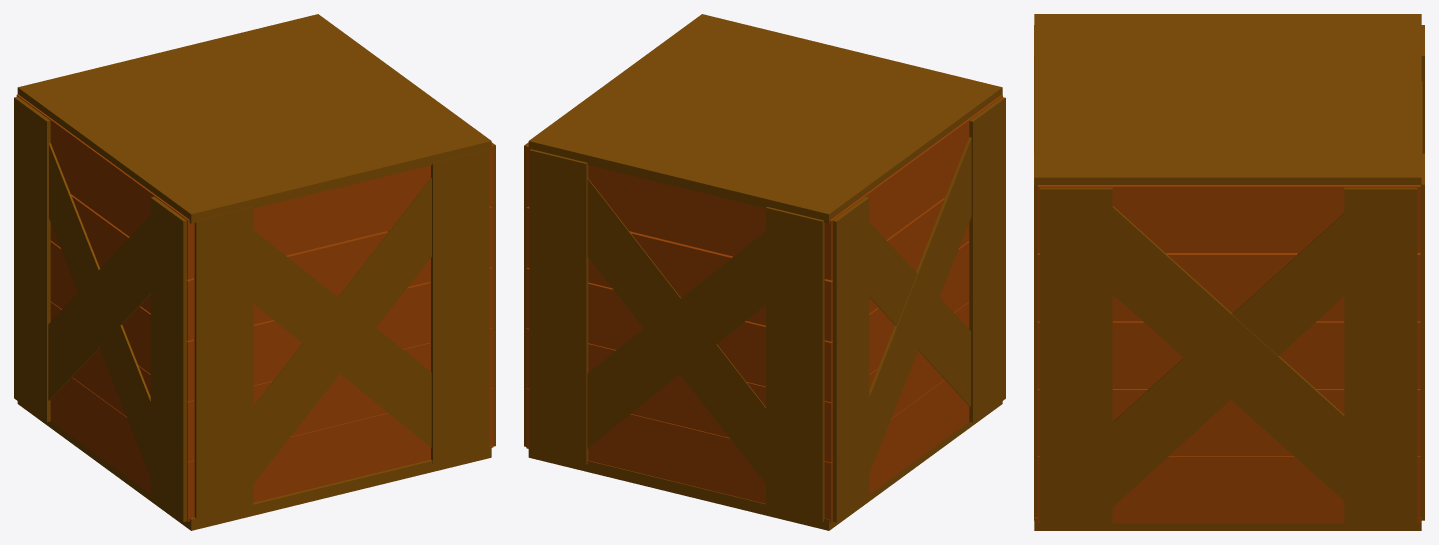
Rendered from woodenbox.fbx.
3 views of the same model, side by side, from view 1: azimuth 30°, elevation 25°; view 2: azimuth 150°, elevation 25°; view 3: azimuth 270°, elevation 25° (orthographic). The views are drawn at different scales.
Visible parts, largest first — view 1: Cube.029, Cube.026, Cube.027, Cube.034, Cube.021, Cube.020, Cube.035, Cube.015, Cube.019, Cube.032, Cube.033, Cube.004 (+9 smaller); view 2: Cube.029, Cube.025, Cube.024, Cube.037, Cube.020, Cube.036, Cube.021, Cube.014, Cube.010, Cube.032, Cube.033, Cube.004 (+9 smaller); view 3: Cube.029, Cube.022, Cube.023, Cube.030, Cube.031, Cube.009, Cube.005, Cube.007, Cube.008, Cube.006, Cube.028, Cube.025 (+1 smaller).
Boxes of the visible parts, x1,y1,x2,y2 form: Cube.029: (17,14,491,223); Cube.026: (194,207,253,521); Cube.027: (430,149,489,463); Cube.034: (253,177,431,483); Cube.021: (150,196,187,522); Cube.020: (14,96,50,422); Cube.035: (253,230,431,447); Cube.015: (191,413,430,517); Cube.019: (192,165,430,278); Cube.032: (48,215,150,400); Cube.033: (49,143,150,476); Cube.004: (16,94,191,279); Cube.029: (528,14,1002,223); Cube.025: (529,149,588,464); Cube.024: (766,207,824,522); Cube.037: (587,231,765,448); Cube.020: (832,197,869,522); Cube.036: (587,178,765,483); Cube.021: (969,97,1005,422); Cube.014: (588,165,827,279); Cube.010: (588,414,827,518); Cube.032: (869,137,971,473); Cube.033: (869,222,970,406); Cube.004: (827,95,1002,280); Cube.029: (1034,14,1421,188); Cube.022: (1344,187,1417,525); Cube.023: (1039,187,1112,525); Cube.030: (1112,206,1344,500); Cube.031: (1112,213,1344,506); Cube.009: (1037,185,1420,252); Cube.005: (1037,456,1420,523); Cube.007: (1037,321,1420,388); Cube.008: (1037,253,1420,321); Cube.006: (1037,389,1420,456); Cube.028: (1034,517,1421,530); Cube.025: (1420,153,1424,520).
Size of the model in its own units: 208 by 201 by 202.
Materials: 1 (1 with a texture image).
